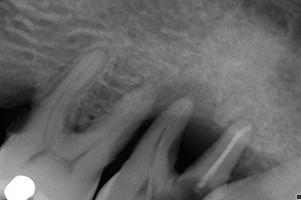Dental Caries: (146, 80, 224, 175)
Endo-Periodontal Lesion: (63, 110, 96, 135)
